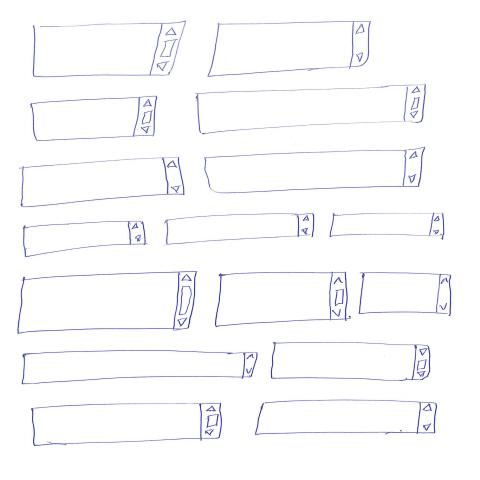Textarea: (194, 81, 429, 136), (17, 271, 198, 336), (202, 146, 429, 195), (207, 20, 373, 79), (19, 156, 188, 211), (32, 401, 224, 449), (33, 21, 190, 78), (214, 272, 351, 329), (268, 343, 435, 382), (29, 96, 161, 143), (164, 213, 316, 248), (22, 220, 149, 261), (357, 271, 455, 316)
